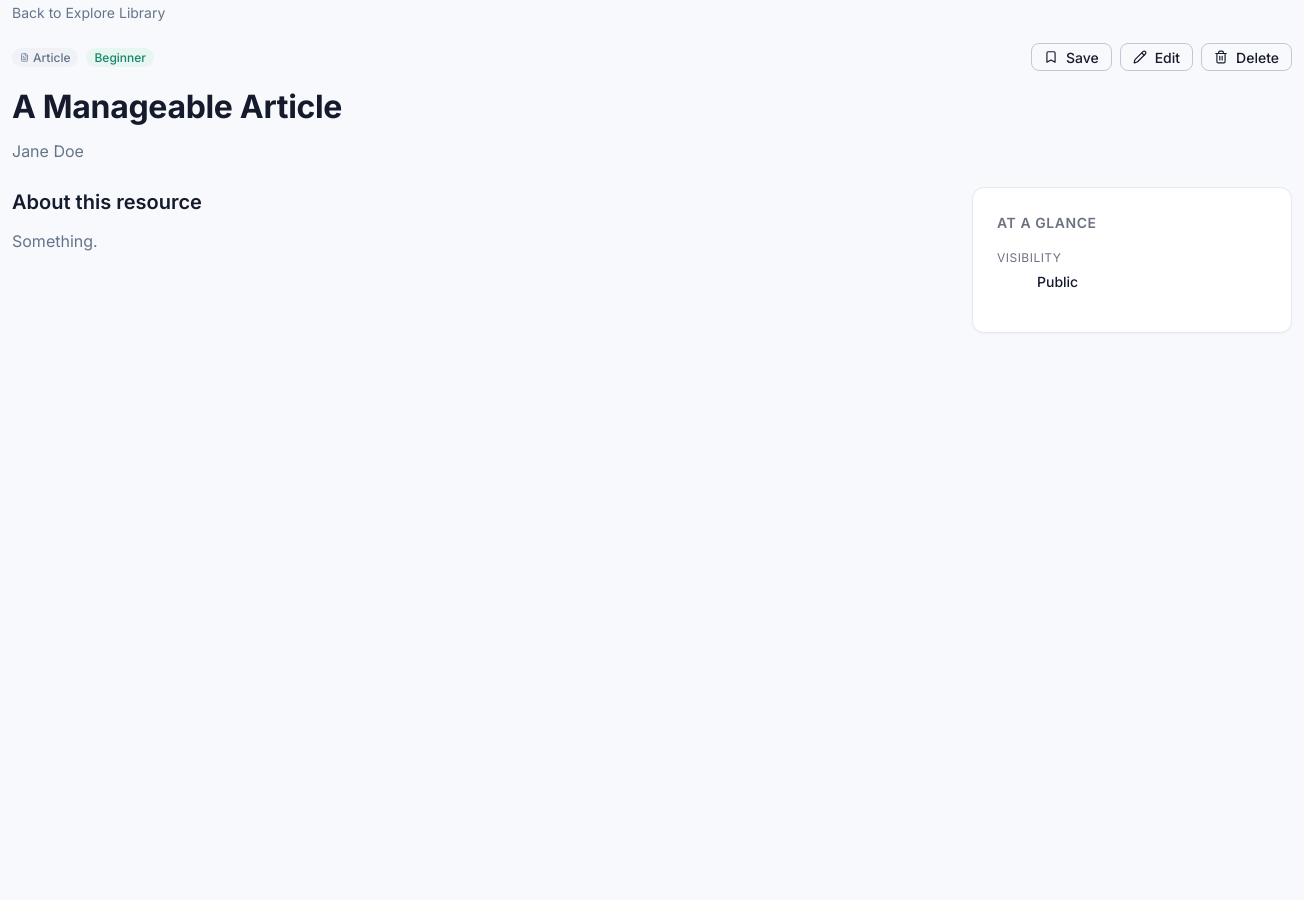
ResourceDetailsPage › save/unsave (Task 06) › shows an error toast and leaves the toggle unchanged when saving fails
Click the button "Save". click: (1071, 57)
box: [1031, 43, 1112, 71]
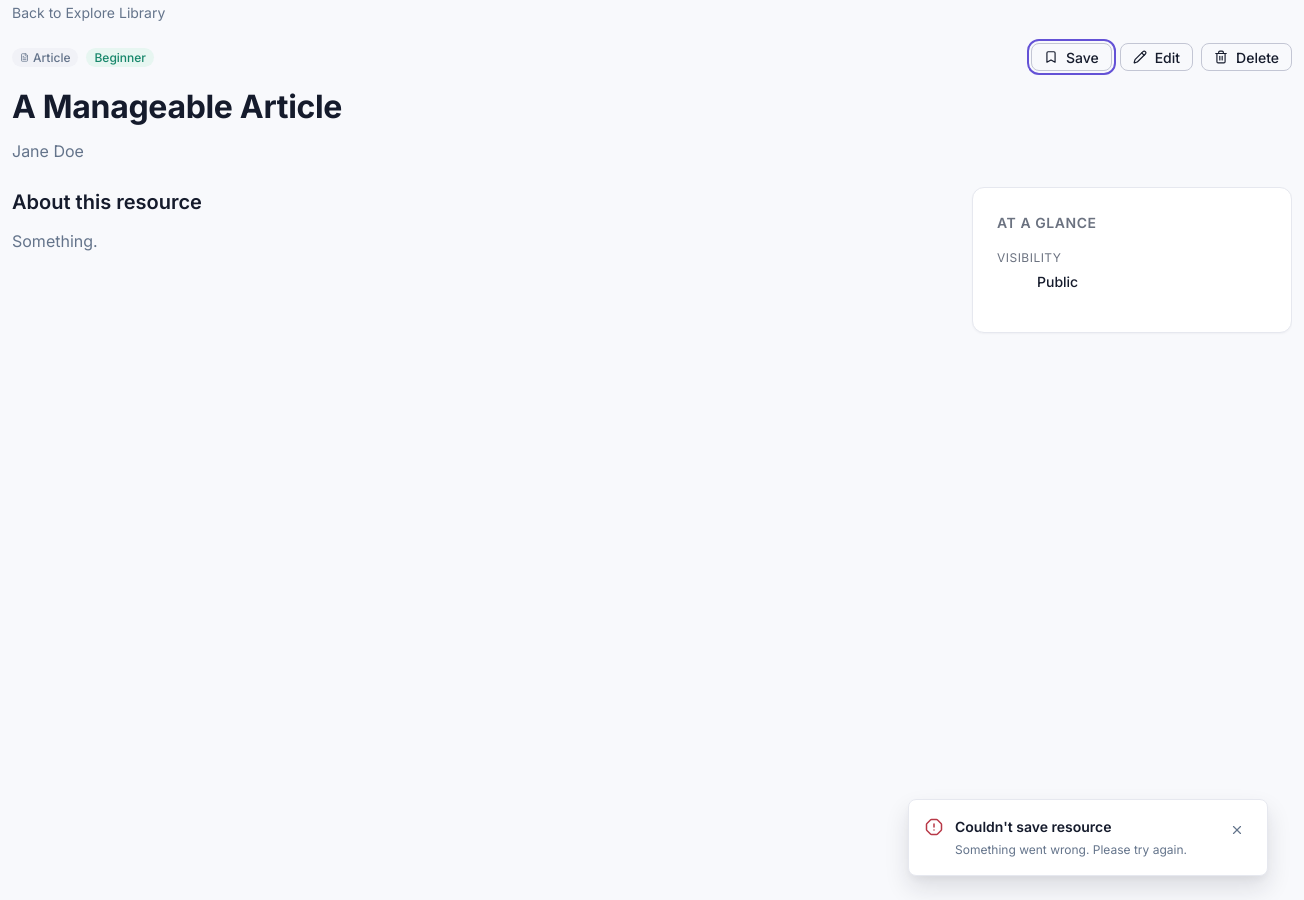
Now the text "Couldn't save resource" is shown, box [955, 818, 1112, 835]
